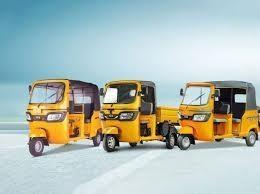keke: (25, 74, 103, 162), (177, 78, 259, 156)
